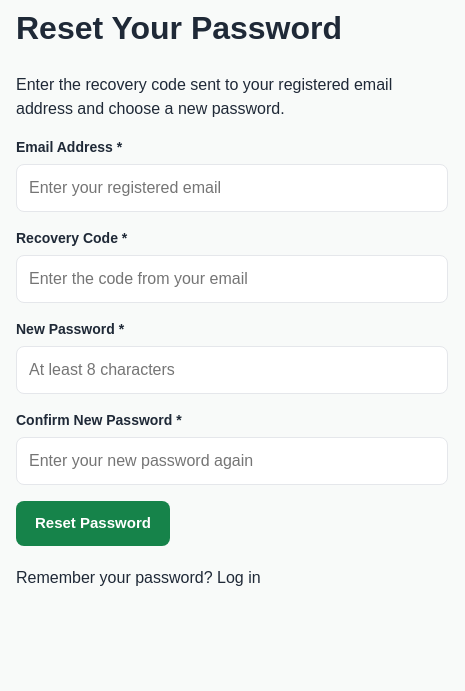
Test case: ResetPassword › displays an error when the backend rejects the recovery code
Type "user@example.com" into the field with placeholder "Enter your registered email" at {"x": 232, "y": 188}, box [16,164,448,212]
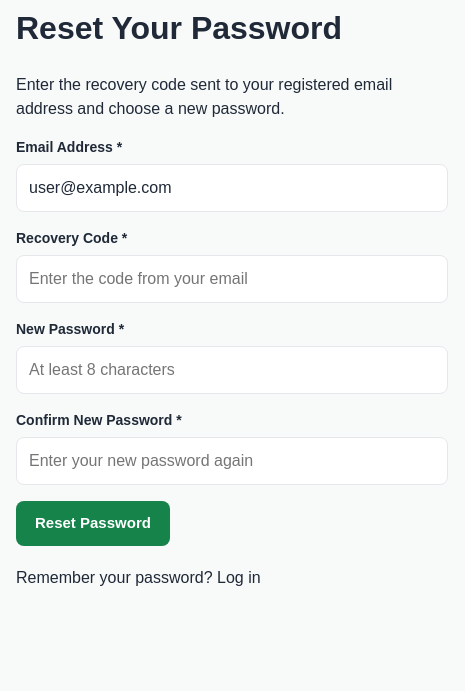
Type "test-recovery-code" into the field with placeholder "Enter the code from your email" at {"x": 232, "y": 279}, box [16,255,448,303]
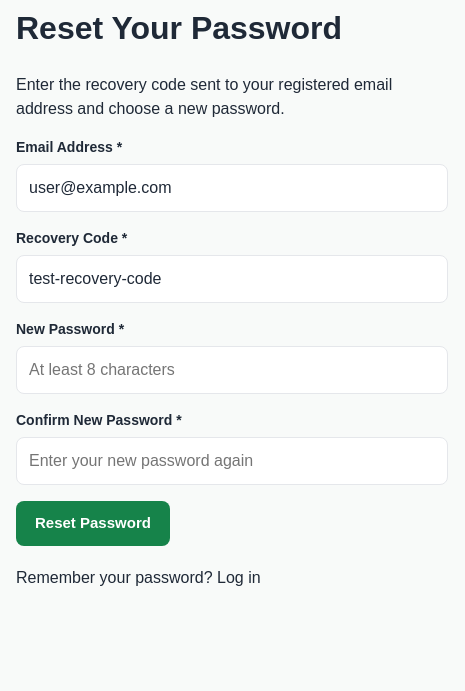
Type "NewPassword123!" into the password field with placeholder "At least 8 characters" at {"x": 232, "y": 370}, box [16,346,448,394]
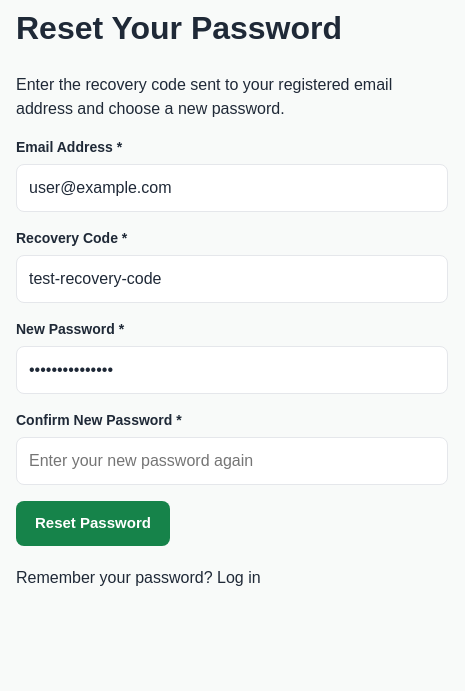
Type "NewPassword123!" into the password field with placeholder "Enter your new password again" at {"x": 232, "y": 461}, box [16,437,448,485]
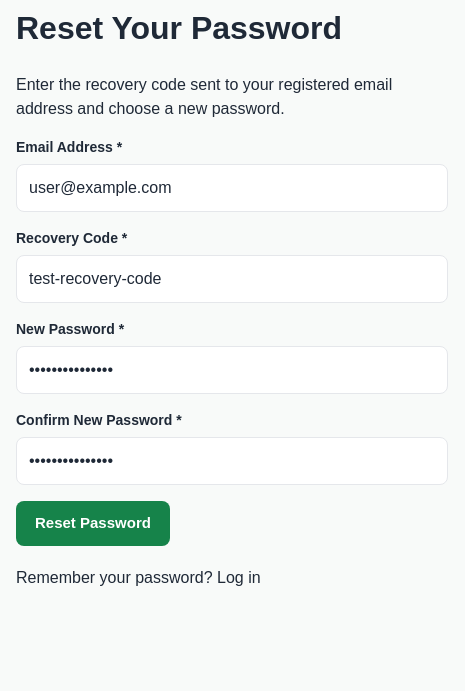
Click the button "Reset Password" at {"x": 93, "y": 524}, box [16,501,170,546]
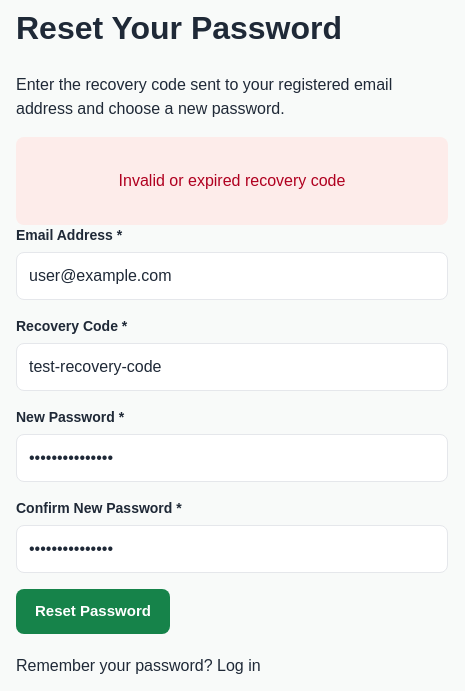
Now the message reads "Invalid or expired recovery code", box [119,172,345,189]
